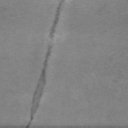finishing roll printing: (25, 46, 52, 128), (50, 0, 64, 38)
